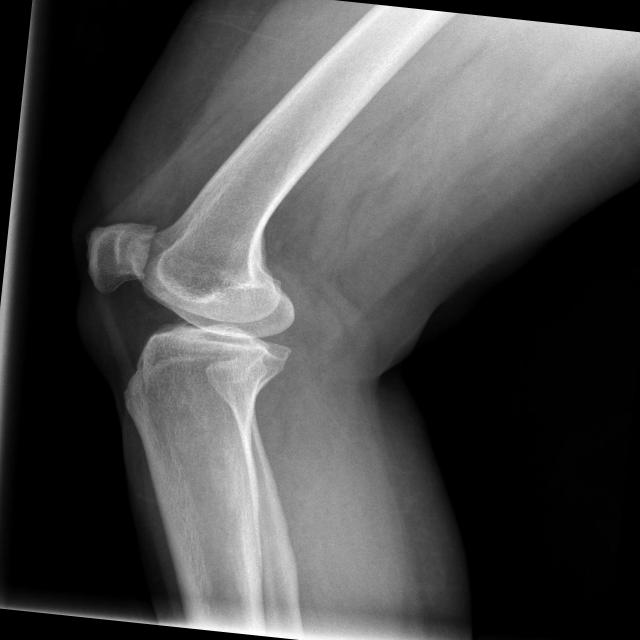Knee: (66, 212, 308, 434)
